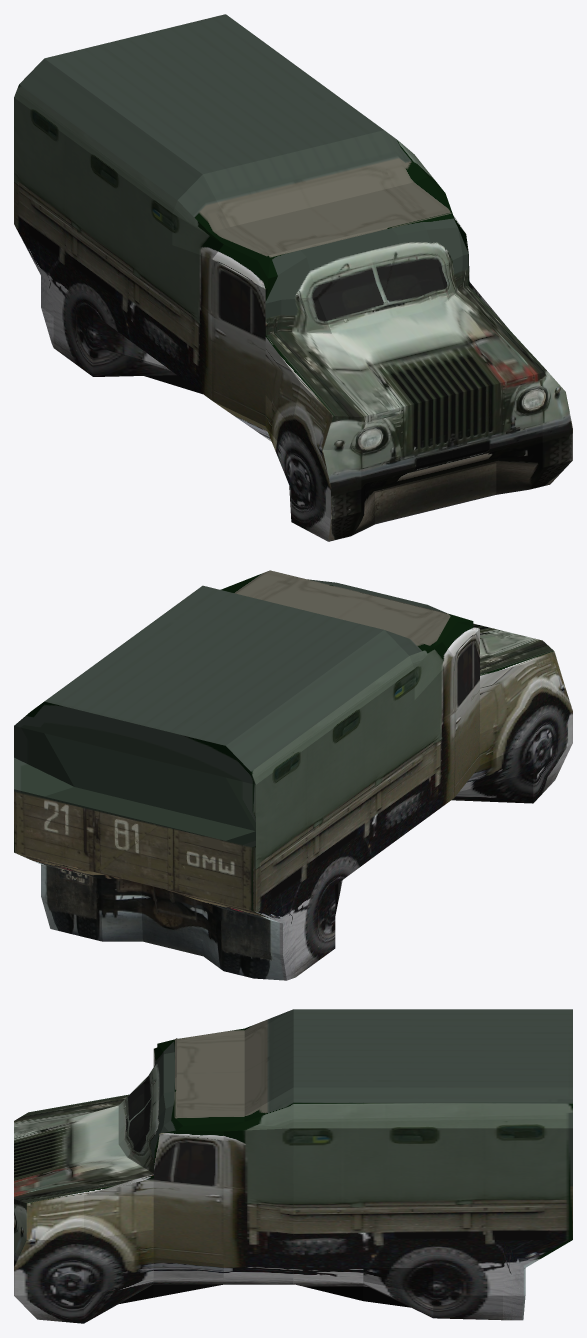
The model's file is gaz51_small.fbx.
3 renders of one model, top to bottom at view 1: azimuth 30°, elevation 25°; view 2: azimuth 150°, elevation 25°; view 3: azimuth 270°, elevation 25°, orthographic. The views are drawn at different scales.
Parts seen in each view (by area): view 1: Cube; view 2: Cube; view 3: Cube.
Part boxes in pixels (bbox=[...]): Cube: bbox=[14, 14, 572, 541]; Cube: bbox=[14, 570, 572, 980]; Cube: bbox=[14, 1009, 572, 1323].
Bounding box in the file's own units: 200 × 200 × 454.
1 material, 1 textured.
